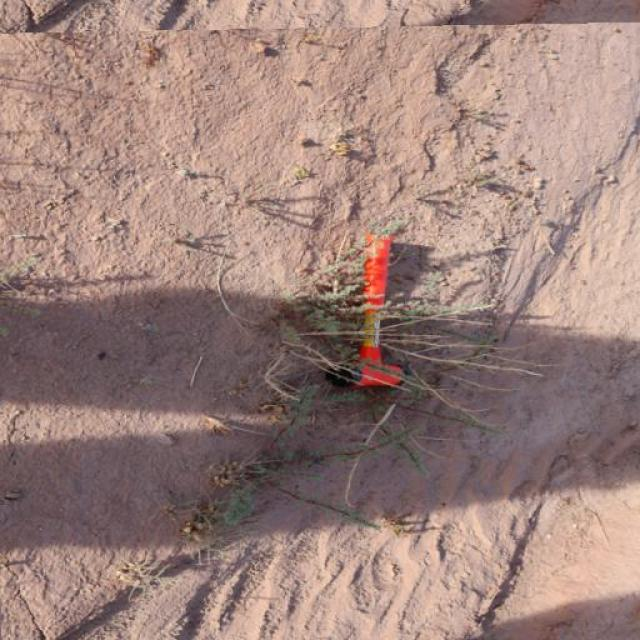mallet: (324, 224, 406, 390)
